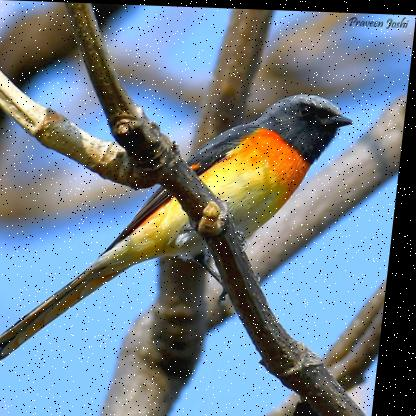Burung: (0, 83, 357, 372)
